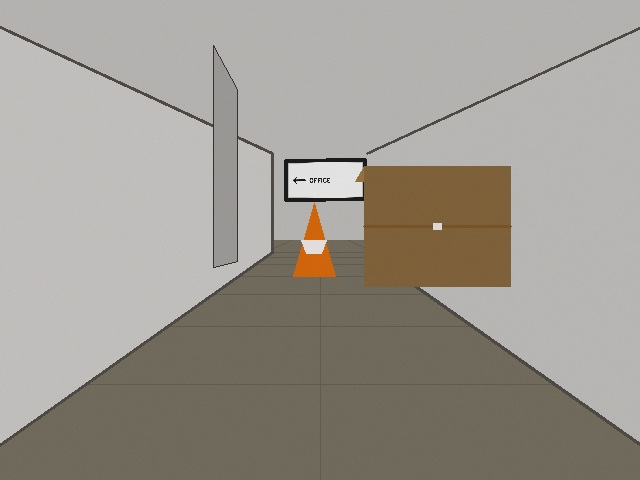box: (355, 166, 510, 286)
directional_sign: (285, 159, 365, 200)
obstacle: (293, 203, 335, 276)
